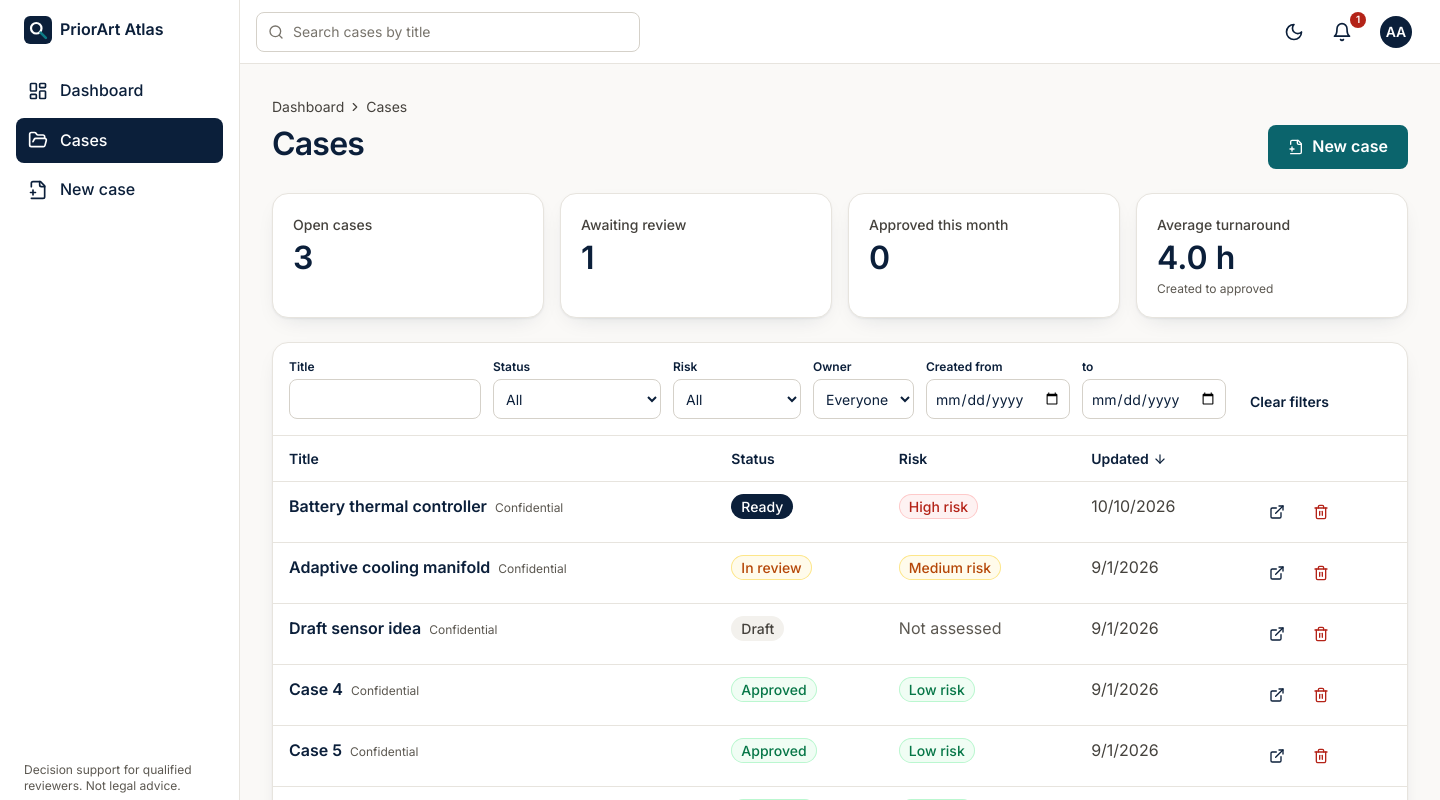
Scenario: dashboard › deletes a case after confirmation and tells the user
Click the button named "Delete Draft sensor idea". click: (1321, 634)
box: x1=1301 y1=616 x2=1341 y2=652
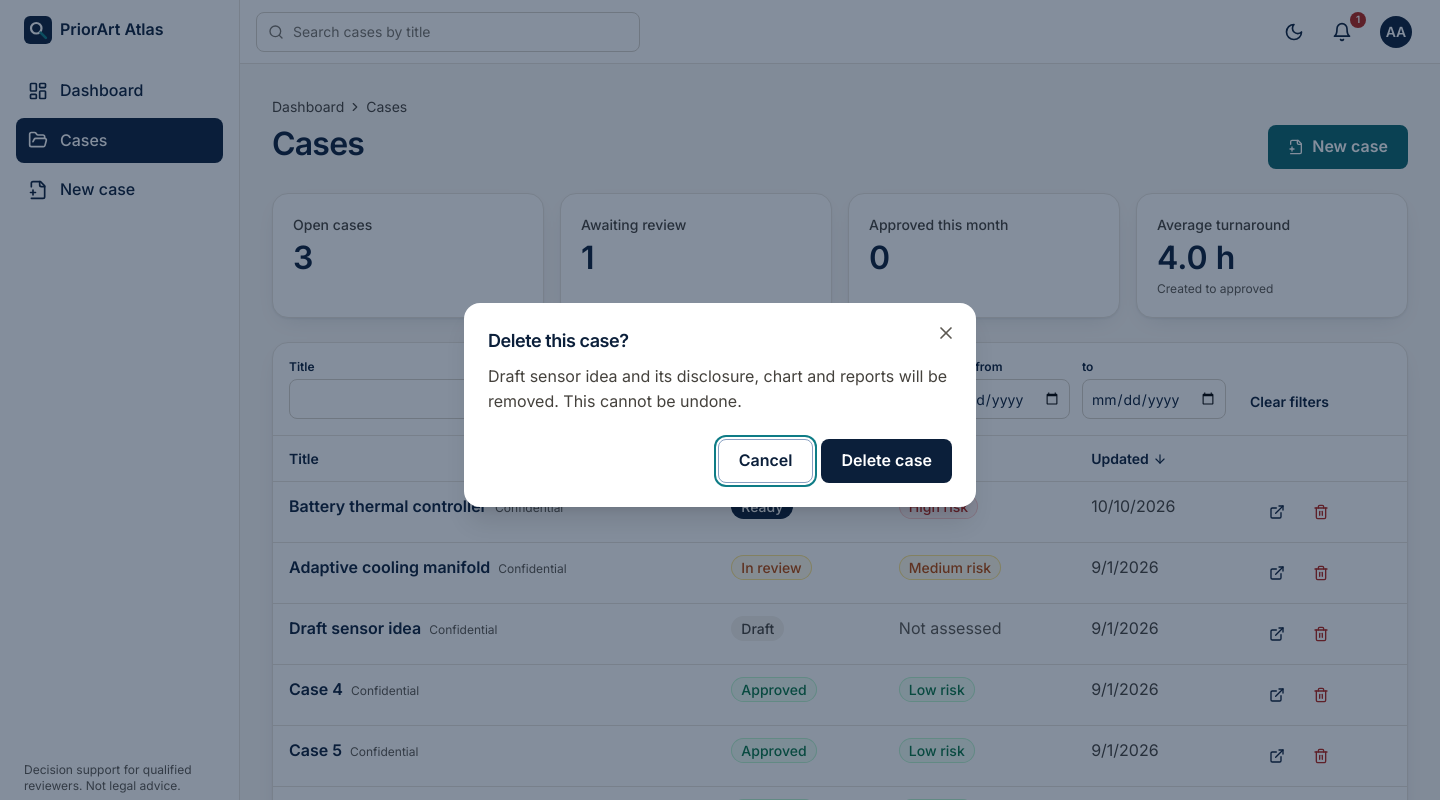
Click the button "Delete case". click: (887, 461)
box: x1=821 y1=439 x2=952 y2=483
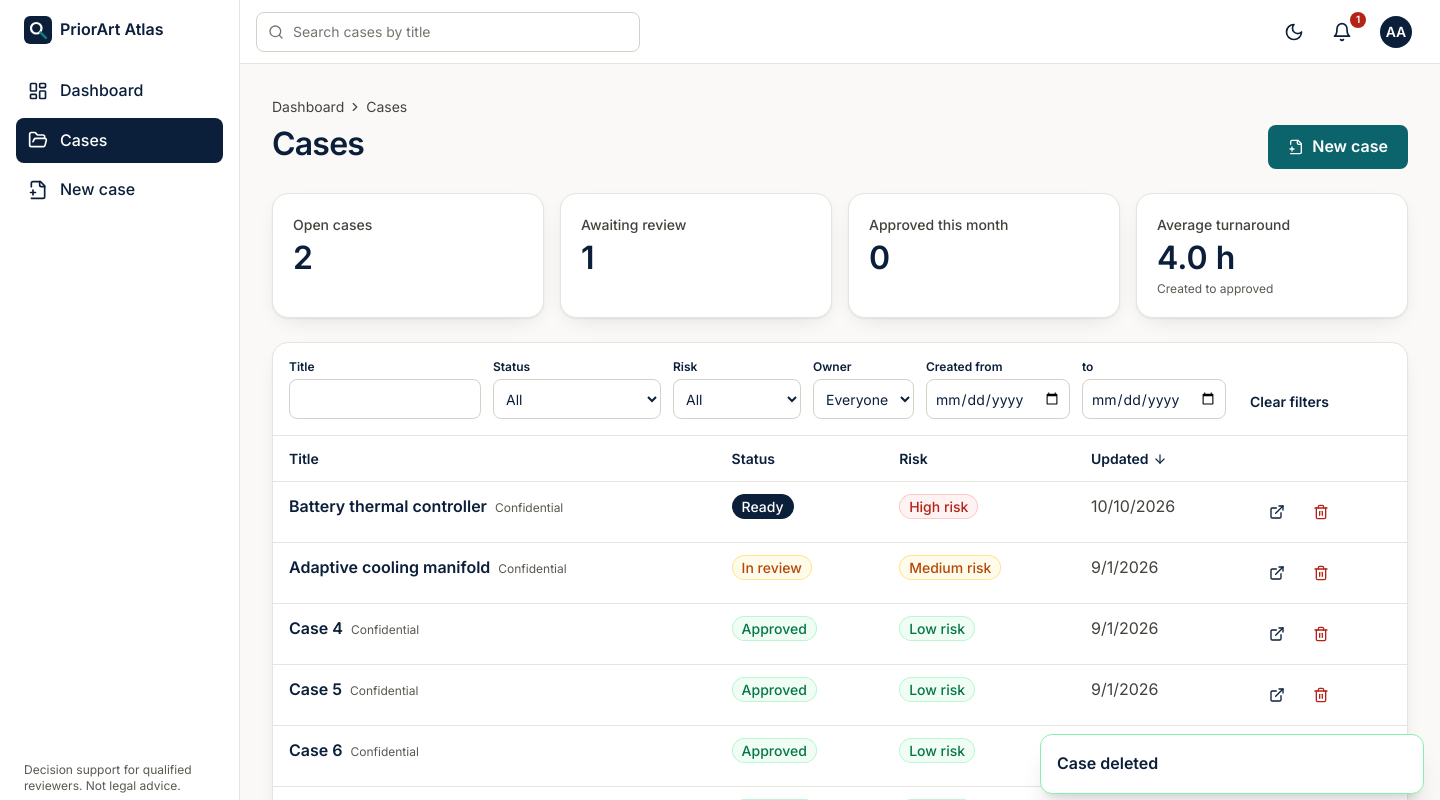
Now the text "Case deleted" is shown, box x1=1057 y1=753 x2=1158 y2=773
